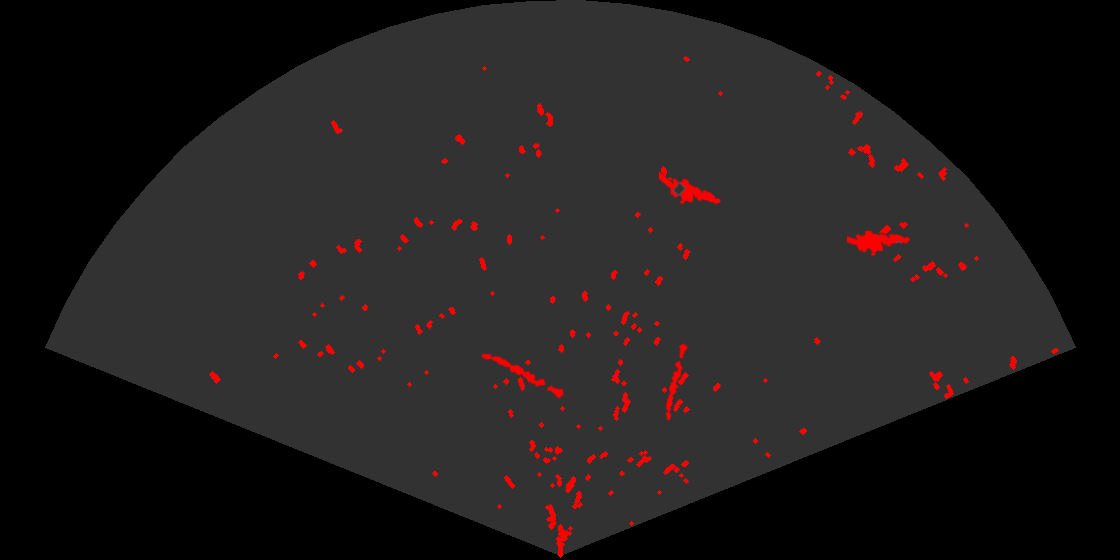chain: (480, 352, 574, 403), (664, 338, 689, 422)
frogman: (659, 170, 722, 206), (847, 229, 912, 258)
